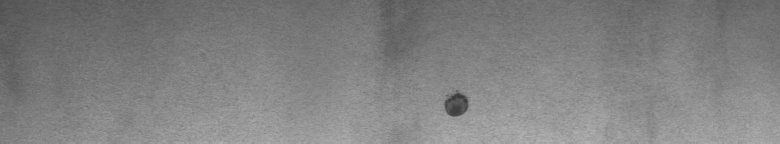fi: (437, 84, 476, 124)
